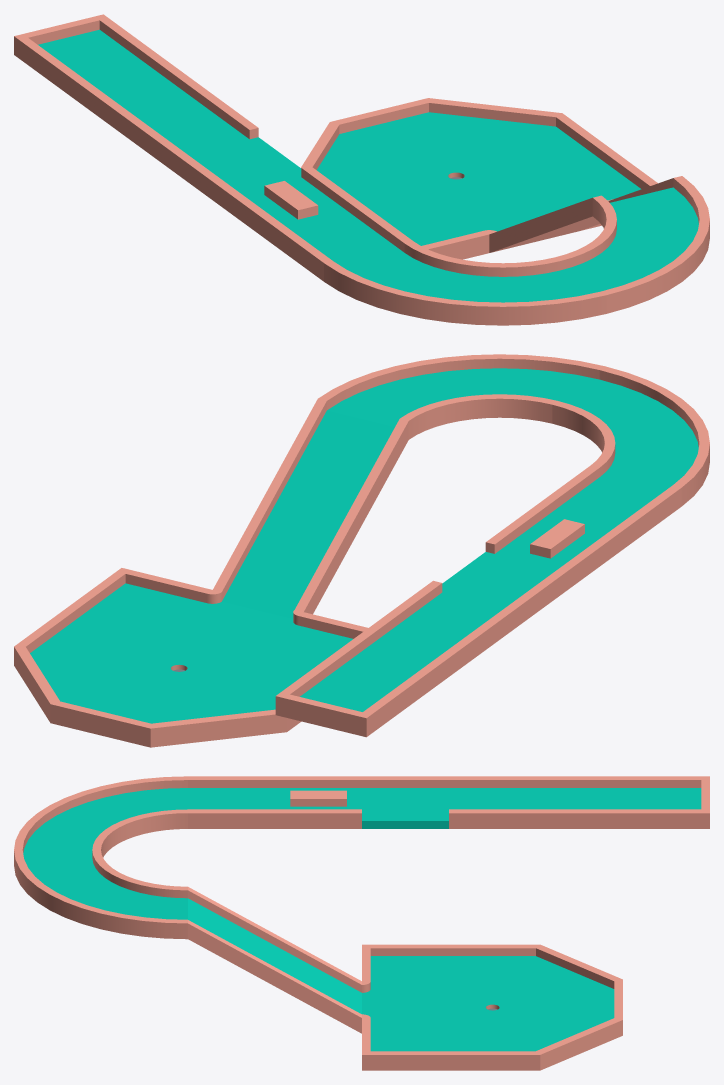
The model's file is Hole4.fbx.
3 renders of one model, top to bottom at view 1: azimuth 30°, elevation 25°; view 2: azimuth 150°, elevation 25°; view 3: azimuth 270°, elevation 25°, orthographic. The views are drawn at different scales.
Visible parts, largest first — view 1: Hole4.002, Hole4.001; view 2: Hole4.002, Hole4.001; view 3: Hole4.002, Hole4.001.
Boxes of the visible parts, box(x1,y1,x2,y2) form: Hole4.002: box(38, 29, 698, 302); Hole4.001: box(14, 14, 709, 325); Hole4.002: box(30, 368, 698, 723); Hole4.001: box(14, 354, 709, 747); Hole4.002: box(23, 788, 701, 1051); Hole4.001: box(14, 776, 709, 1070).
Size of the model in its own units: 500 by 140 by 800.
